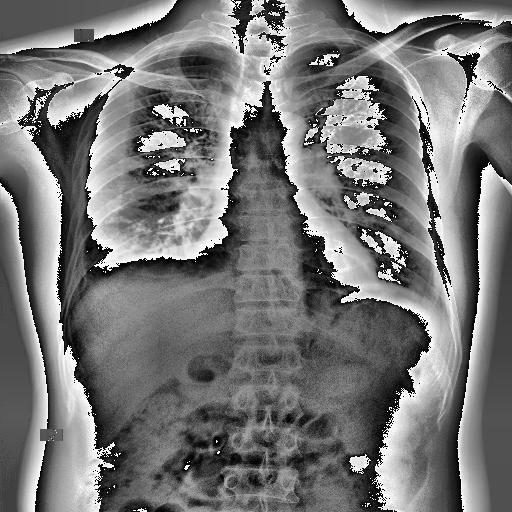11- Pleural thickening: (325, 34, 387, 60), (145, 40, 205, 60), (317, 39, 377, 53), (166, 36, 228, 46)
3- Cardiomegaly: (184, 234, 380, 294)
7- Lung Opacity: (74, 189, 206, 281), (80, 214, 195, 294), (68, 218, 132, 302)
